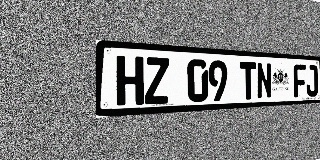0: (187, 59, 208, 102)
9: (208, 60, 228, 101)
F: (293, 64, 306, 97)
H: (116, 55, 144, 106)
J: (306, 65, 318, 97)
N: (257, 62, 272, 99)
T: (240, 61, 256, 100)
Z: (145, 57, 169, 104)
